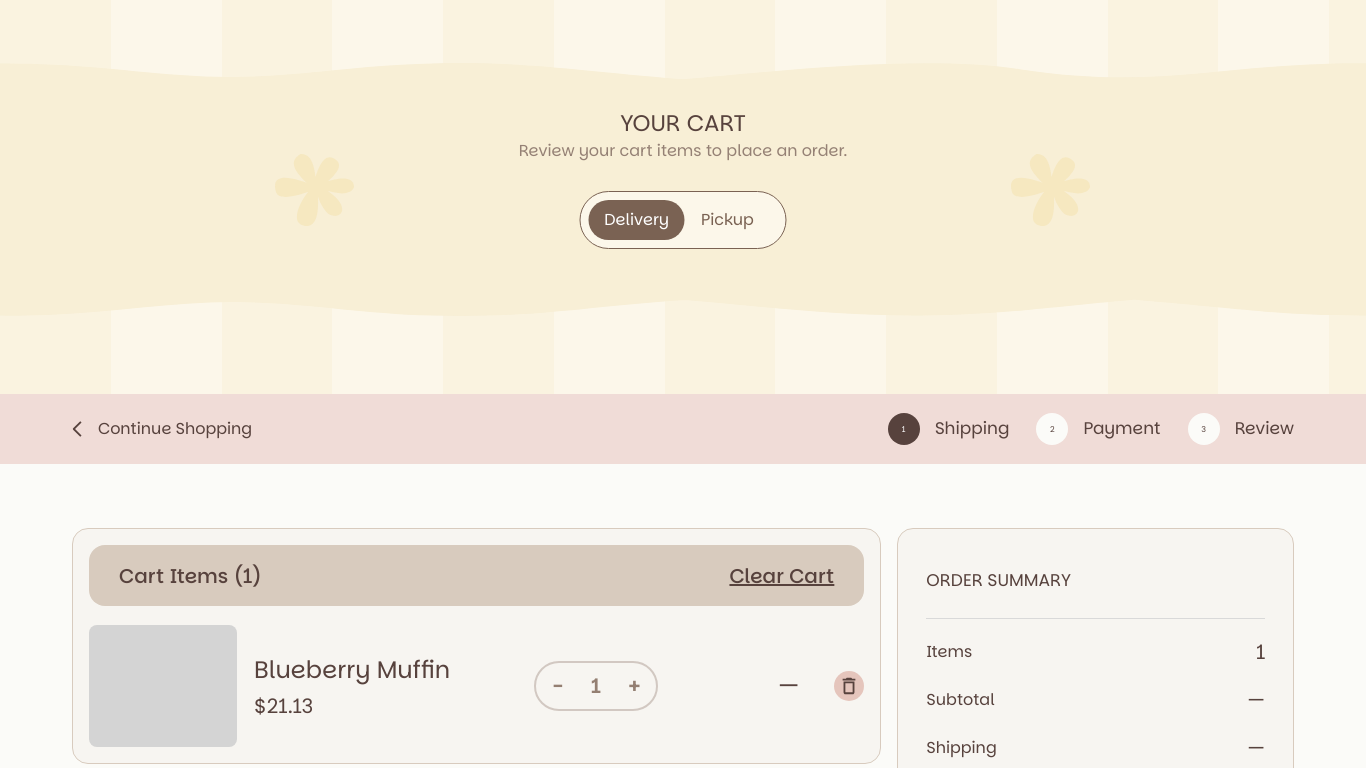
Scenario: Order summary and totals › does not let a superseded quote overwrite a newer one
Click the button named "Increase Blueberry Muffin quantity" at (634,686), box [628,671,641,701]
(page scrolled)
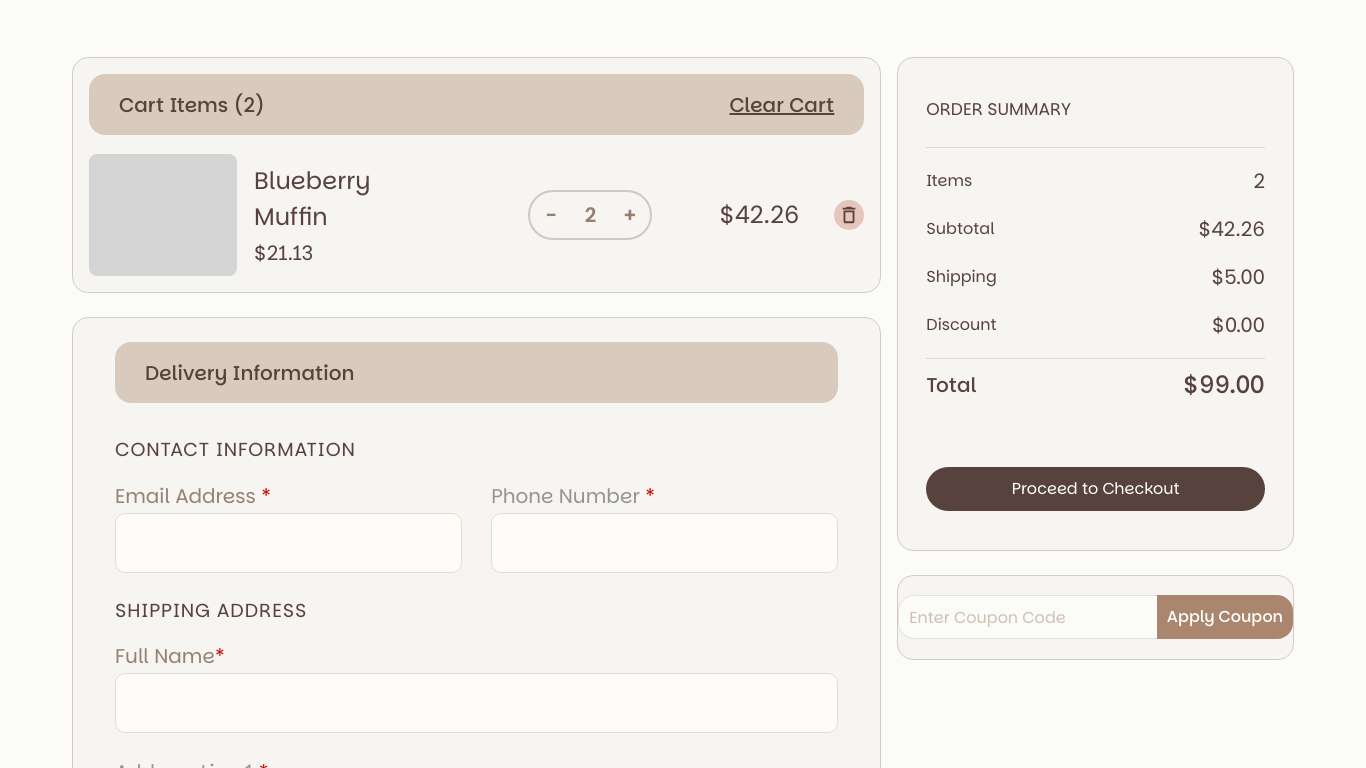
Result: the text "$99.00" is shown at [1183,367,1265,403]
